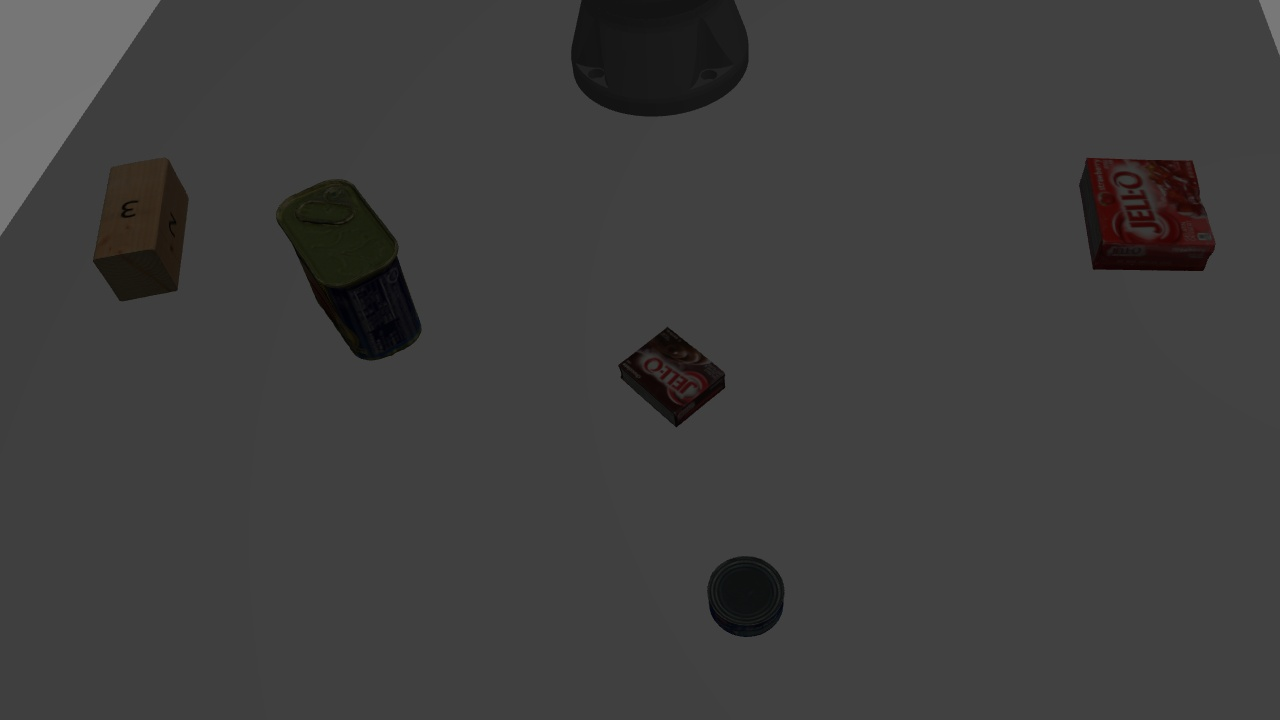gelatin_box: (1067, 142, 1159, 277)
potted_meat_can: (267, 171, 428, 365)
pudding_box: (615, 327, 730, 430)
tuna_fish_can: (703, 553, 790, 624)
wood_block: (96, 157, 186, 306)
